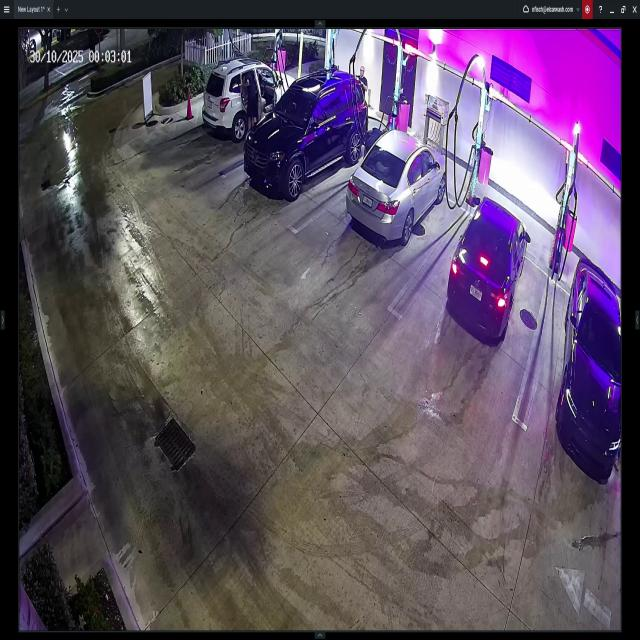Car: (556, 257, 623, 473), (248, 76, 368, 196), (343, 128, 445, 250), (444, 196, 528, 333), (202, 62, 296, 145)
